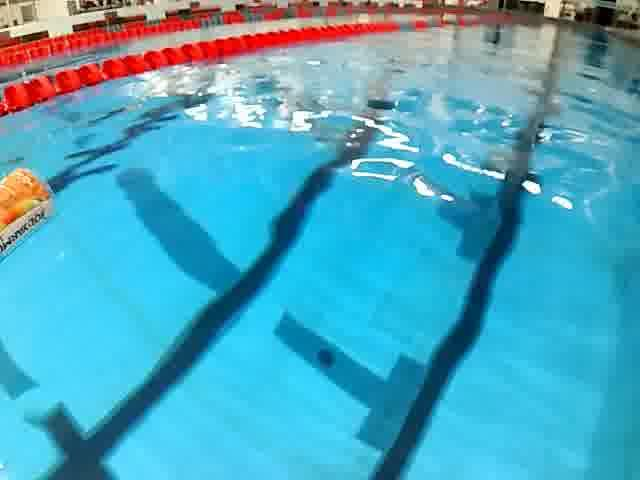Bottle: (0, 161, 62, 271)
